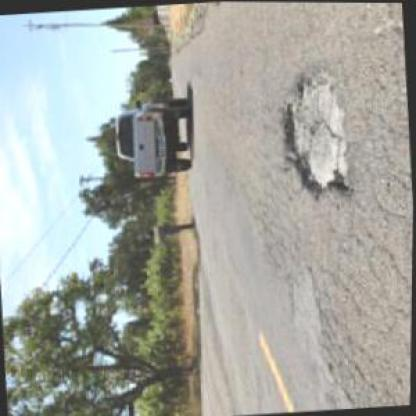pothole: (274, 64, 358, 201)
